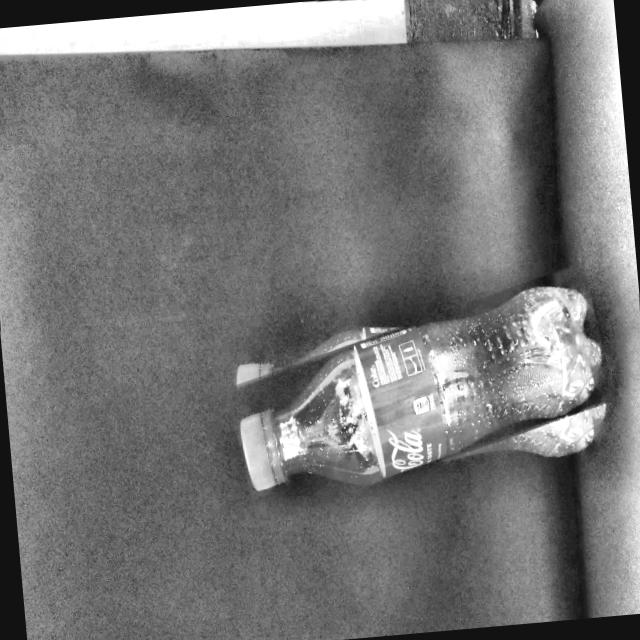Plastic-Bottle: (218, 268, 622, 518)
